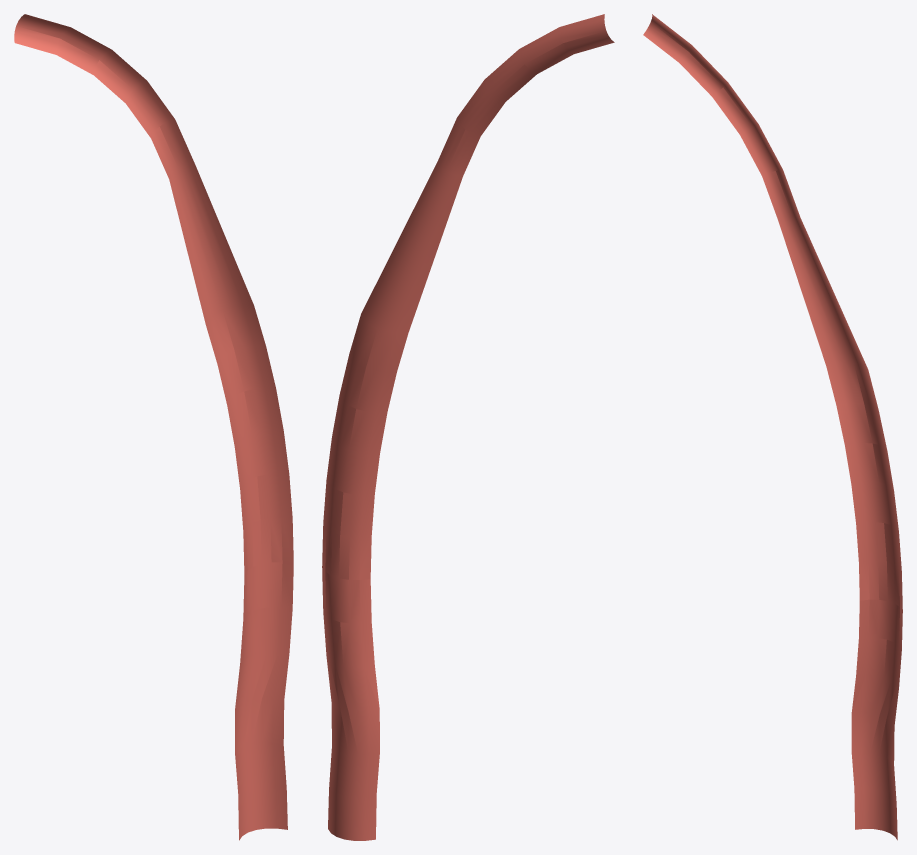
Rendered from esophagusColliderTop.FBX.
3 renders of one model, left to right at view 1: azimuth 30°, elevation 25°; view 2: azimuth 150°, elevation 25°; view 3: azimuth 330°, elevation 25°, orthographic. The views are drawn at different scales.
Visible parts, largest first — view 1: Mesh026; view 2: Mesh026; view 3: Mesh026.
Part boxes in pixels (x1,y1,x2,y2): Mesh026: [14, 14, 293, 840]; Mesh026: [322, 14, 614, 840]; Mesh026: [643, 14, 902, 840].
Size of the model in its own units: 22.43 by 66.05 by 2.27.
